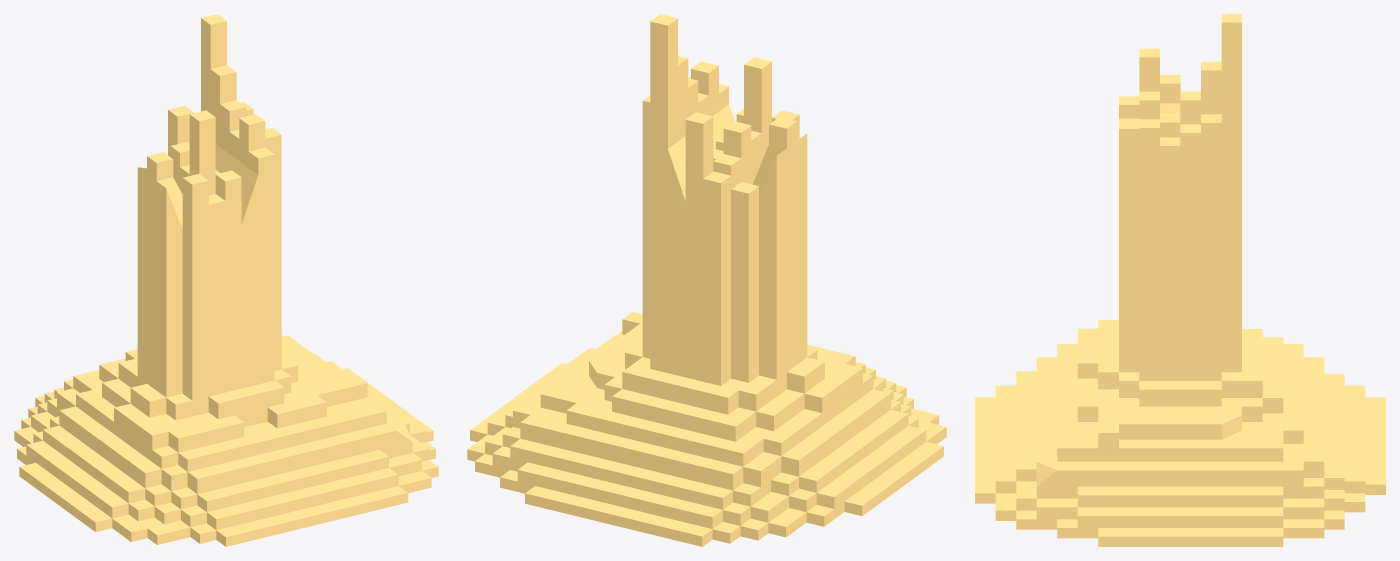
Rendered from DesertFormation.fbx.
3 views of the same model, side by side, from view 1: azimuth 30°, elevation 25°; view 2: azimuth 150°, elevation 25°; view 3: azimuth 270°, elevation 25° (orthographic). The views are drawn at different scales.
Parts seen in each view (by area): view 1: Plane; view 2: Plane; view 3: Plane.
Part boxes in pixels (x1,y1,x2,y2): Plane: (14, 14, 438, 546); Plane: (467, 14, 946, 546); Plane: (975, 14, 1385, 546).
Bounding box in the file's own units: 5259 × 5990 × 5000.
